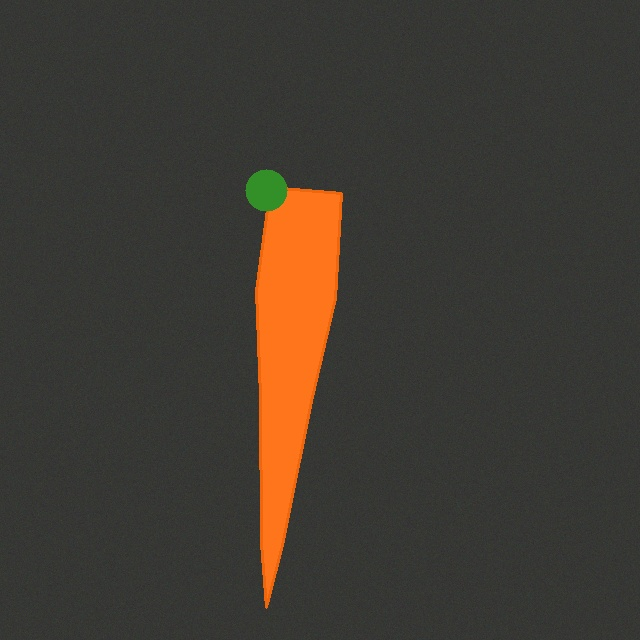Good_Carrot: (248, 179, 349, 615)
